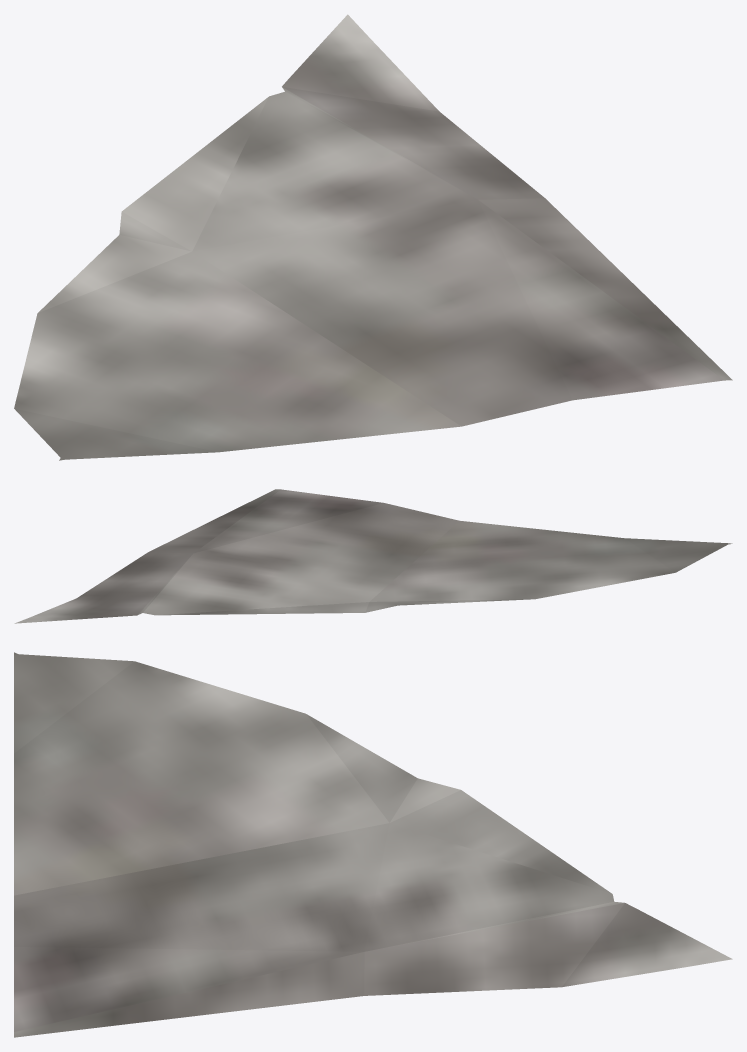
The picture shows the model from 3 angles, top to bottom: view 1: azimuth 30°, elevation 25°; view 2: azimuth 150°, elevation 25°; view 3: azimuth 270°, elevation 25°; orthographic projection. The views are drawn at different scales.
Size of the model in its own units: 0.1568 by 0.0187 by 0.1553.
Materials: 1 (1 with a texture image).
